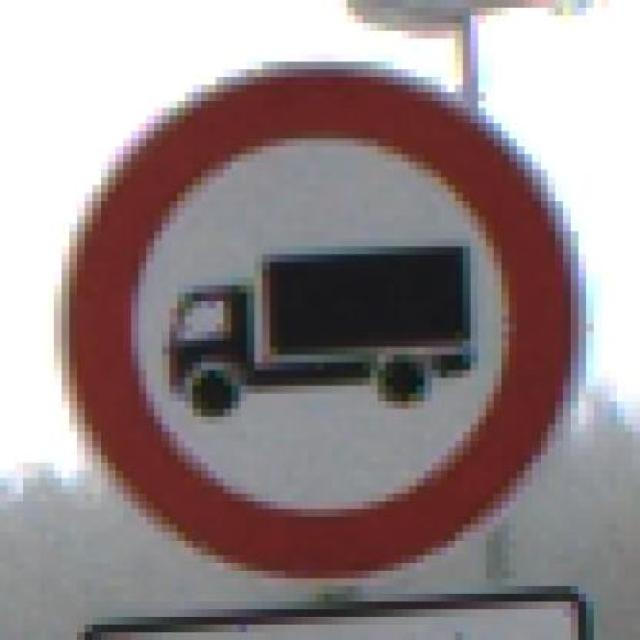Truck traffic is prohibited: (52, 64, 585, 604)
